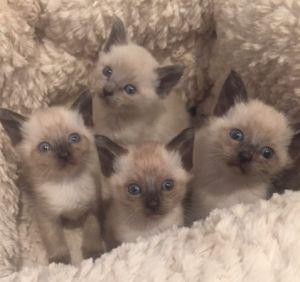siamese: (93, 122, 200, 225)
